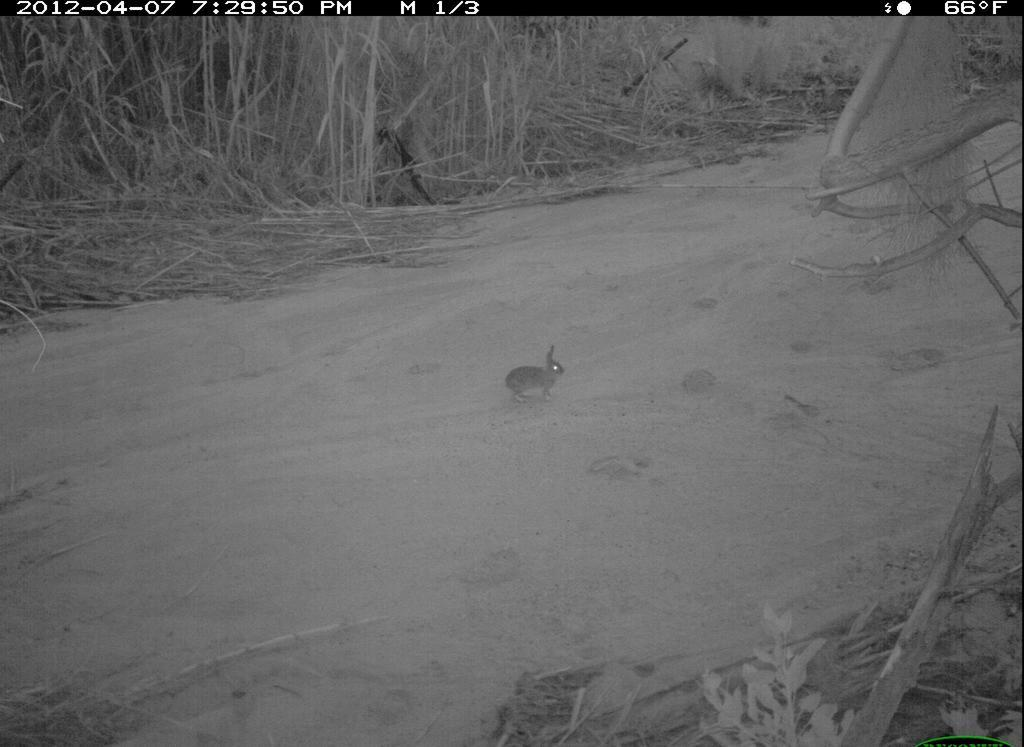rabbit: (497, 336, 577, 406)
